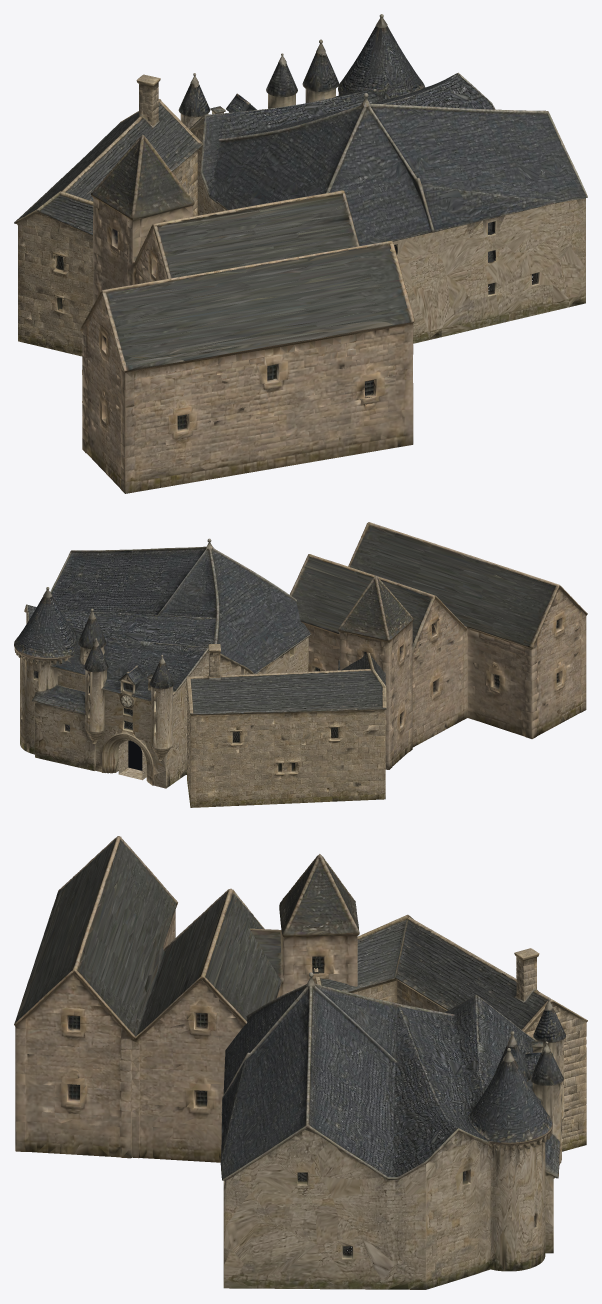
File: grand-chatelet-2269-fallback.glb
3 renders of one model, top to bottom at view 1: azimuth 30°, elevation 25°; view 2: azimuth 150°, elevation 25°; view 3: azimuth 270°, elevation 25°, orthographic. The views are drawn at different scales.
Visible parts, largest first — view 1: LIGHT_B, LIGHT_A, LIGHT_C; view 2: LIGHT_A, LIGHT_B, LIGHT_C, GC_RECESS_north; view 3: LIGHT_A, LIGHT_B, LIGHT_C.
Boxes of the visible parts, x1,y1,x2,y2 form: LIGHT_B: [80, 134, 414, 493]; LIGHT_A: [178, 14, 587, 343]; LIGHT_C: [14, 74, 202, 356]; LIGHT_A: [14, 538, 311, 788]; LIGHT_B: [289, 522, 587, 769]; LIGHT_C: [185, 644, 386, 807]; GC_RECESS_north: [118, 740, 146, 780]; LIGHT_A: [220, 972, 565, 1289]; LIGHT_B: [14, 836, 359, 1162]; LIGHT_C: [313, 914, 587, 1151].
Size of the model in its own units: 64.55 by 26.01 by 57.16.
5 materials, 4 textured.
